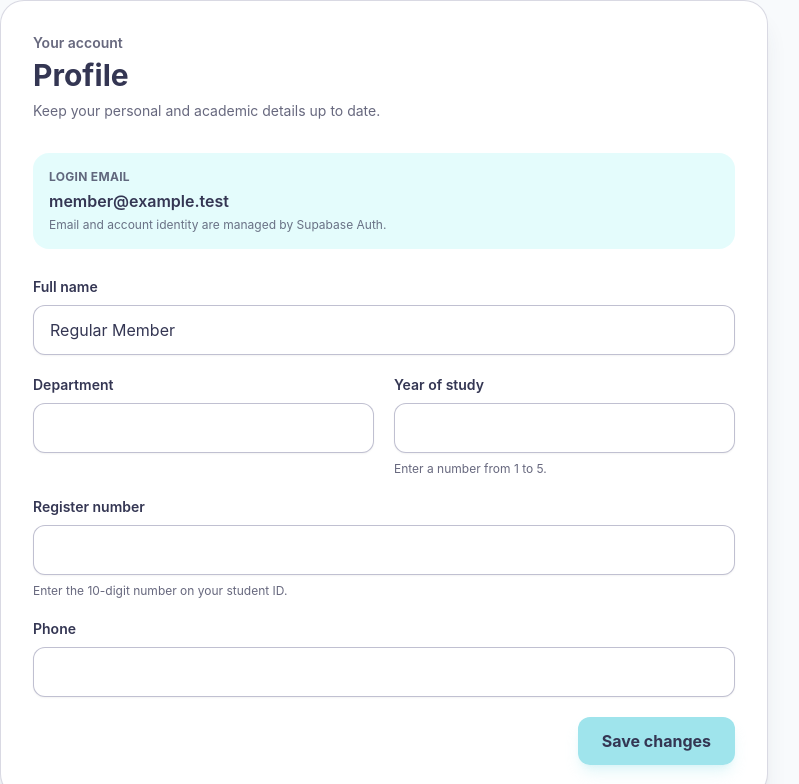
Scenario: profile form › shows a safe database error when the update fails
Click the button "Save changes": (656, 741) [578,717,735,765]
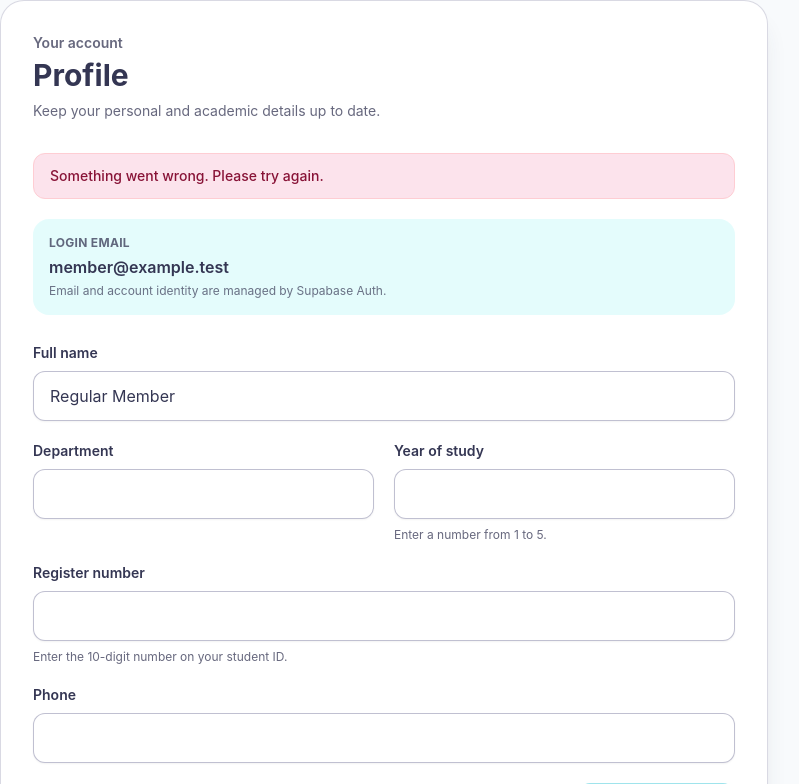
Result: the message reads "Something went wrong. Please try again." at [50,167,324,184]
